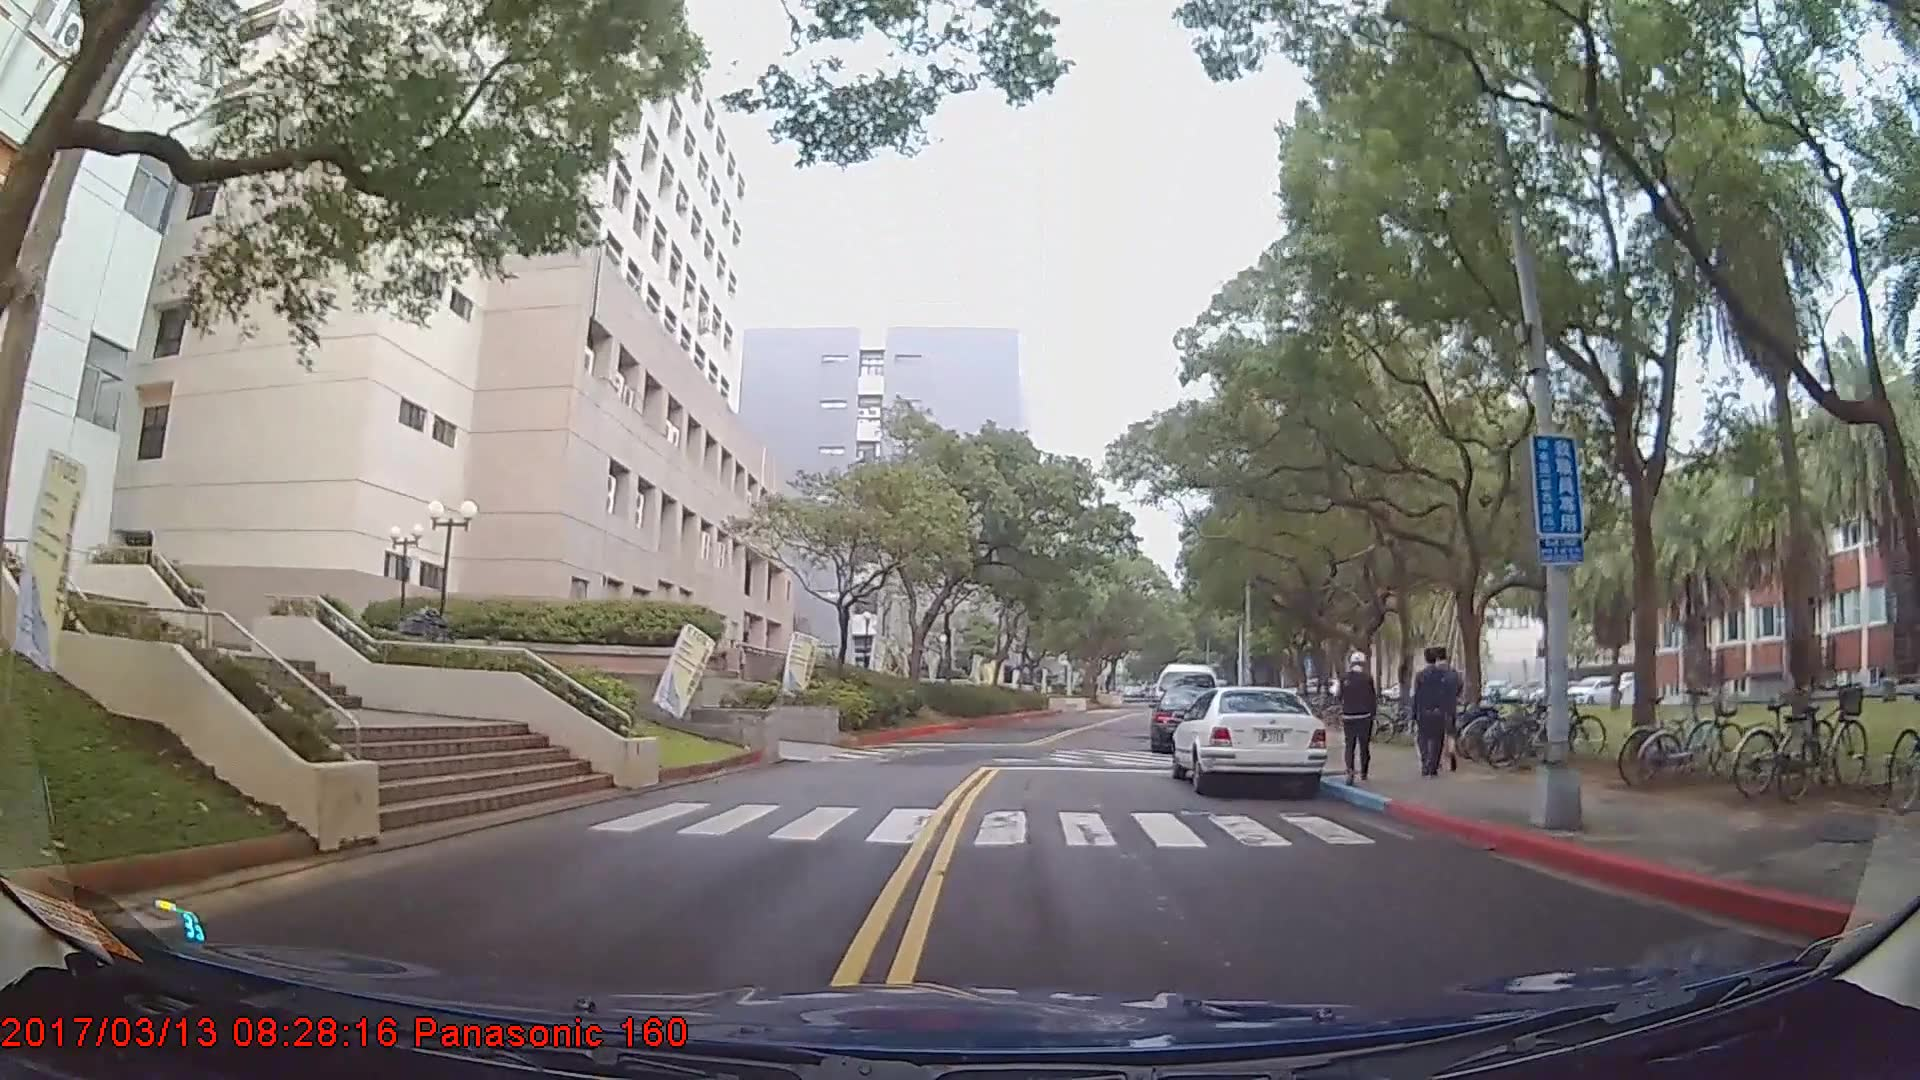pedestrian: (1411, 642, 1461, 783), (1336, 647, 1380, 785)
vehicle: (1169, 684, 1328, 796)
